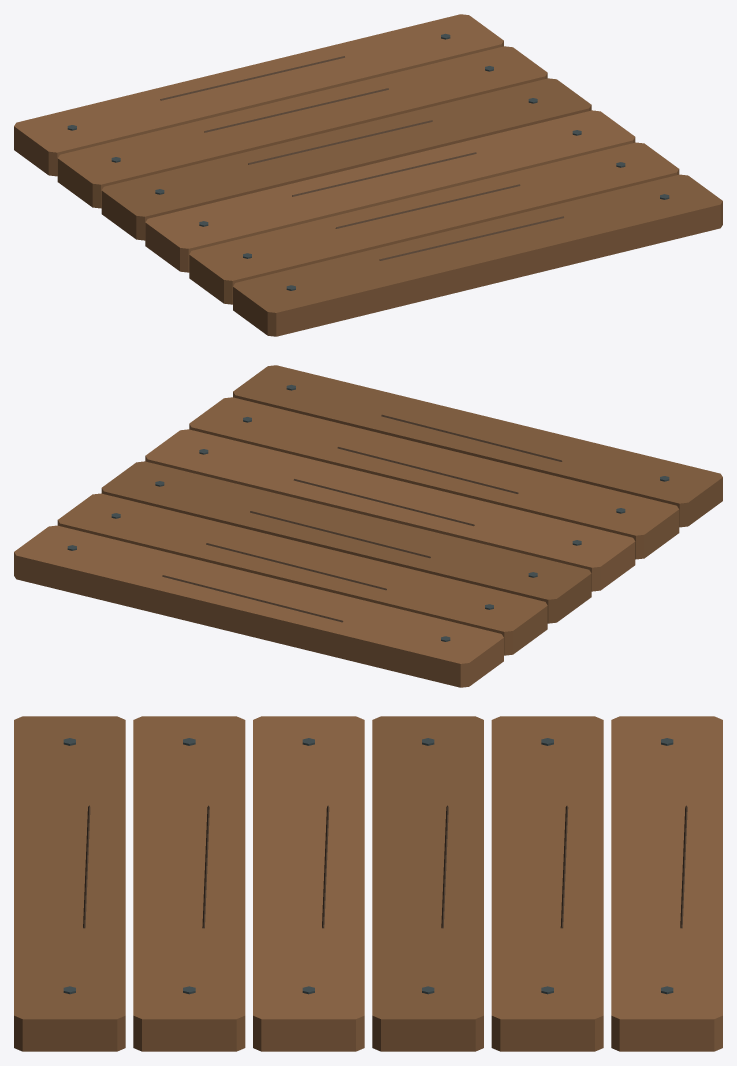
The model's file is path_wood_a.glb.
3 renders of one model, top to bottom at view 1: azimuth 30°, elevation 25°; view 2: azimuth 150°, elevation 25°; view 3: azimuth 270°, elevation 25°, orthographic. The views are drawn at different scales.
Parts seen in each view (by area): view 1: geometry; view 2: geometry; view 3: geometry.
Boxes of the visible parts, x1=… form: geometry: x1=14, y1=14, x2=722, y2=336; geometry: x1=14, y1=365, x2=722, y2=687; geometry: x1=14, y1=716, x2=722, y2=1051.
Size of the model in its own units: 1 by 0.054 by 0.9893.
